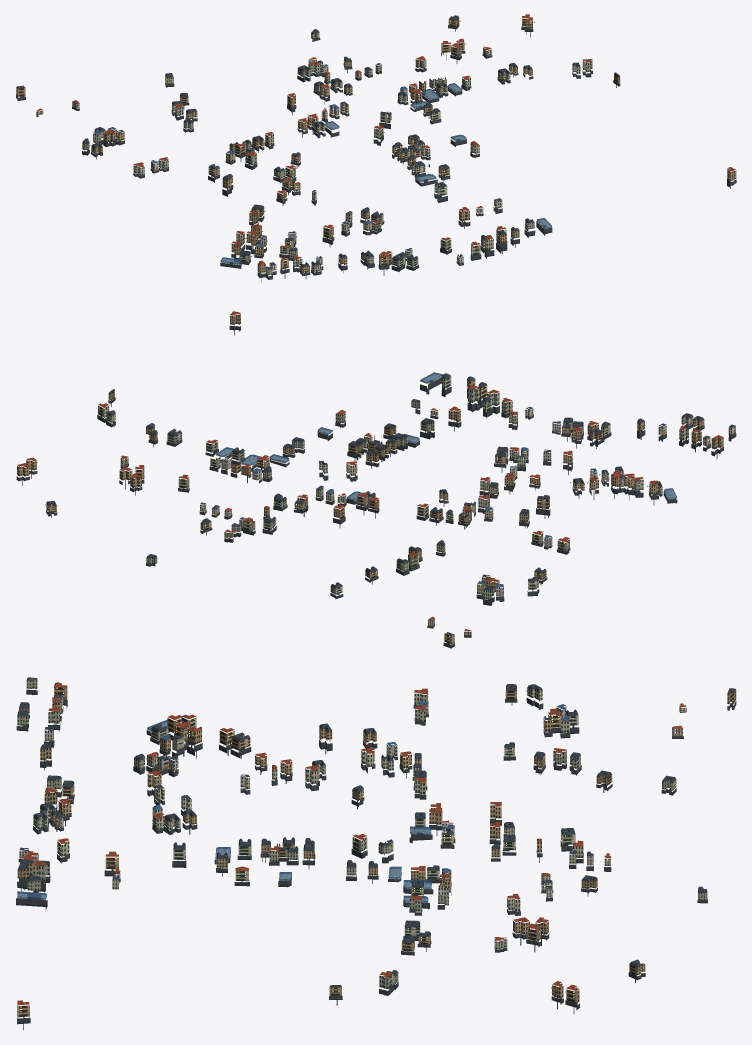
Rendered from osm_buildings_T_E00_N00_Q3.glb.
3 renders of one model, top to bottom at view 1: azimuth 30°, elevation 25°; view 2: azimuth 150°, elevation 25°; view 3: azimuth 270°, elevation 25°, orthographic. The views are drawn at different scales.
Visible parts, largest first — view 1: OSM_PBR_T_E00_N00_Q3_foundation, OSM_PBR_T_E00_N00_Q3_wall_cream_stucco, OSM_PBR_T_E00_N00_Q3_wall_french_ochre, OSM_PBR_T_E00_N00_Q3_roof_mansard_slate, OSM_PBR_T_E00_N00_Q3_roof_terracotta, OSM_PBR_T_E00_N00_Q3_roof_mansard_deck, OSM_PBR_T_E00_N00_Q3_greenhouse_blend, OSM_PBR_T_E00_N00_Q3_wall_warm_white, OSM_PBR_T_E00_N00_Q3_roof_mint_metal; view 2: OSM_PBR_T_E00_N00_Q3_foundation, OSM_PBR_T_E00_N00_Q3_wall_cream_stucco, OSM_PBR_T_E00_N00_Q3_wall_french_ochre, OSM_PBR_T_E00_N00_Q3_roof_mansard_slate, OSM_PBR_T_E00_N00_Q3_roof_terracotta, OSM_PBR_T_E00_N00_Q3_roof_mansard_deck, OSM_PBR_T_E00_N00_Q3_greenhouse_blend, OSM_PBR_T_E00_N00_Q3_wall_warm_white, OSM_PBR_T_E00_N00_Q3_roof_mint_metal, OSM_PBR_T_E00_N00_Q3_wall_pastel_sand; view 3: OSM_PBR_T_E00_N00_Q3_foundation, OSM_PBR_T_E00_N00_Q3_wall_cream_stucco, OSM_PBR_T_E00_N00_Q3_wall_french_ochre, OSM_PBR_T_E00_N00_Q3_roof_mansard_slate, OSM_PBR_T_E00_N00_Q3_roof_terracotta, OSM_PBR_T_E00_N00_Q3_roof_mansard_deck, OSM_PBR_T_E00_N00_Q3_greenhouse_blend, OSM_PBR_T_E00_N00_Q3_trim_cornice, OSM_PBR_T_E00_N00_Q3_roof_mint_metal, OSM_PBR_T_E00_N00_Q3_wall_warm_white, OSM_PBR_T_E00_N00_Q3_wall_pastel_sand.
Part boxes in pixels (box(x1,y1,x2,y2)): OSM_PBR_T_E00_N00_Q3_foundation: box(16, 23, 736, 282); OSM_PBR_T_E00_N00_Q3_wall_cream_stucco: box(36, 32, 592, 275); OSM_PBR_T_E00_N00_Q3_wall_french_ochre: box(16, 15, 736, 272); OSM_PBR_T_E00_N00_Q3_roof_mansard_slate: box(16, 15, 619, 269); OSM_PBR_T_E00_N00_Q3_roof_terracotta: box(37, 14, 735, 265); OSM_PBR_T_E00_N00_Q3_roof_mansard_deck: box(83, 15, 619, 265); OSM_PBR_T_E00_N00_Q3_greenhouse_blend: box(221, 83, 551, 264); OSM_PBR_T_E00_N00_Q3_wall_warm_white: box(93, 61, 483, 270); OSM_PBR_T_E00_N00_Q3_roof_mint_metal: box(85, 23, 735, 271); OSM_PBR_T_E00_N00_Q3_foundation: box(16, 325, 736, 648); OSM_PBR_T_E00_N00_Q3_wall_cream_stucco: box(98, 376, 735, 635); OSM_PBR_T_E00_N00_Q3_wall_french_ochre: box(17, 314, 723, 644); OSM_PBR_T_E00_N00_Q3_roof_mansard_slate: box(46, 374, 735, 635); OSM_PBR_T_E00_N00_Q3_roof_terracotta: box(17, 311, 722, 631); OSM_PBR_T_E00_N00_Q3_roof_mansard_deck: box(47, 373, 702, 588); OSM_PBR_T_E00_N00_Q3_greenhouse_blend: box(216, 372, 676, 500); OSM_PBR_T_E00_N00_Q3_wall_warm_white: box(212, 411, 710, 597); OSM_PBR_T_E00_N00_Q3_roof_mint_metal: box(18, 320, 723, 594); OSM_PBR_T_E00_N00_Q3_wall_pastel_sand: box(200, 409, 666, 626); OSM_PBR_T_E00_N00_Q3_foundation: box(16, 689, 736, 1030); OSM_PBR_T_E00_N00_Q3_wall_cream_stucco: box(17, 679, 707, 989); OSM_PBR_T_E00_N00_Q3_wall_french_ochre: box(17, 684, 736, 1018); OSM_PBR_T_E00_N00_Q3_roof_mansard_slate: box(17, 677, 735, 987); OSM_PBR_T_E00_N00_Q3_roof_terracotta: box(17, 682, 686, 1005); OSM_PBR_T_E00_N00_Q3_roof_mansard_deck: box(18, 684, 706, 985); OSM_PBR_T_E00_N00_Q3_greenhouse_blend: box(17, 720, 431, 903); OSM_PBR_T_E00_N00_Q3_trim_cornice: box(18, 679, 706, 1012); OSM_PBR_T_E00_N00_Q3_roof_mint_metal: box(17, 692, 707, 1015); OSM_PBR_T_E00_N00_Q3_wall_warm_white: box(53, 696, 593, 890); OSM_PBR_T_E00_N00_Q3_wall_pastel_sand: box(19, 728, 682, 897).
Bounding box in the file's own units: 979 × 99.57 × 949.
18 materials, 16 textured.
